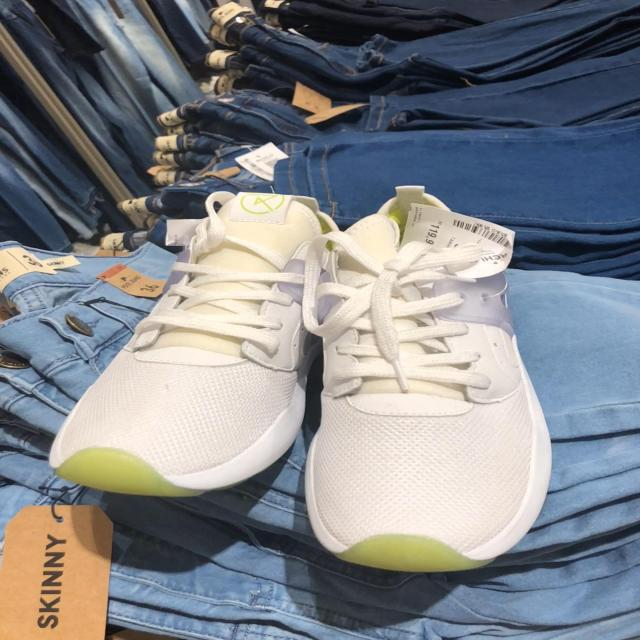shoe: (293, 186, 553, 577), (47, 188, 335, 499)
